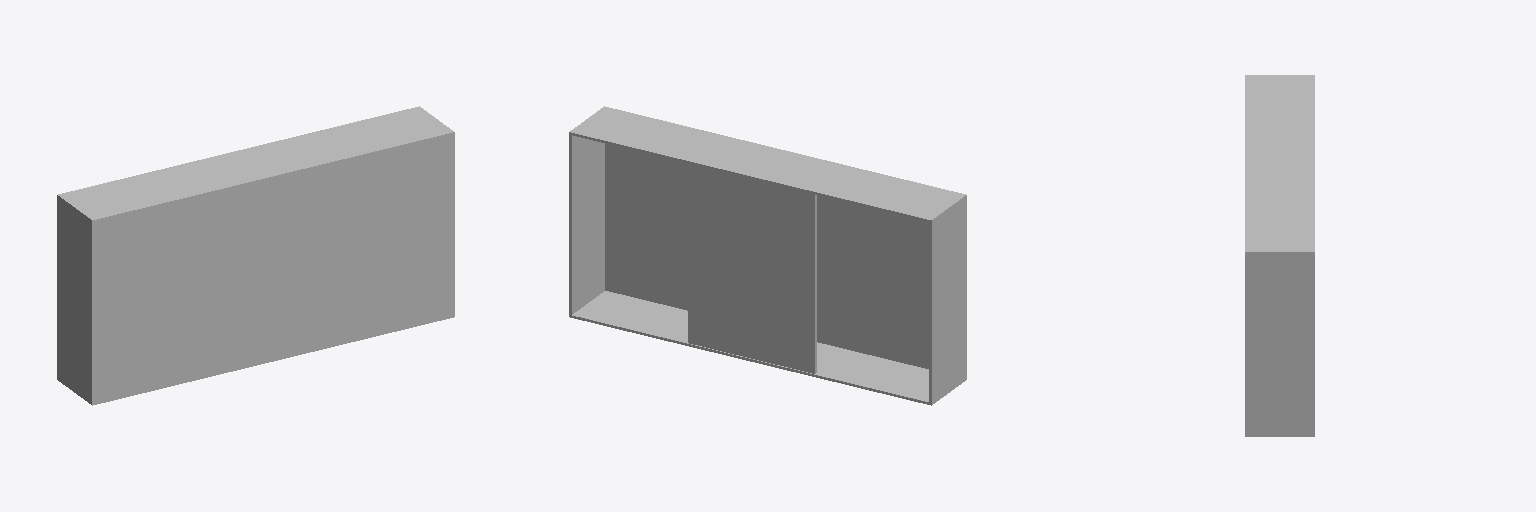
The model's file is body_visual.obj.
3 renders of one model, left to right at view 1: azimuth 30°, elevation 25°; view 2: azimuth 150°, elevation 25°; view 3: azimuth 270°, elevation 25°, orthographic.
Parts seen in each view (by area): view 1: body; view 2: body; view 3: body.
Boxes of the visible parts, x1=… form: body: x1=57, y1=106, x2=454, y2=405; body: x1=569, y1=106, x2=966, y2=405; body: x1=1245, y1=75, x2=1314, y2=436.
Size of the model in its own units: 29.7 by 14.5 by 5.